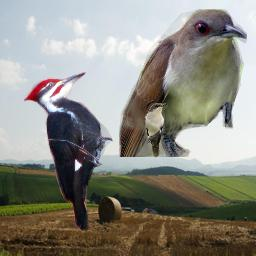Cuckoo: (119, 9, 247, 157), (145, 103, 168, 158)
Woodpecker: (24, 72, 113, 232)
